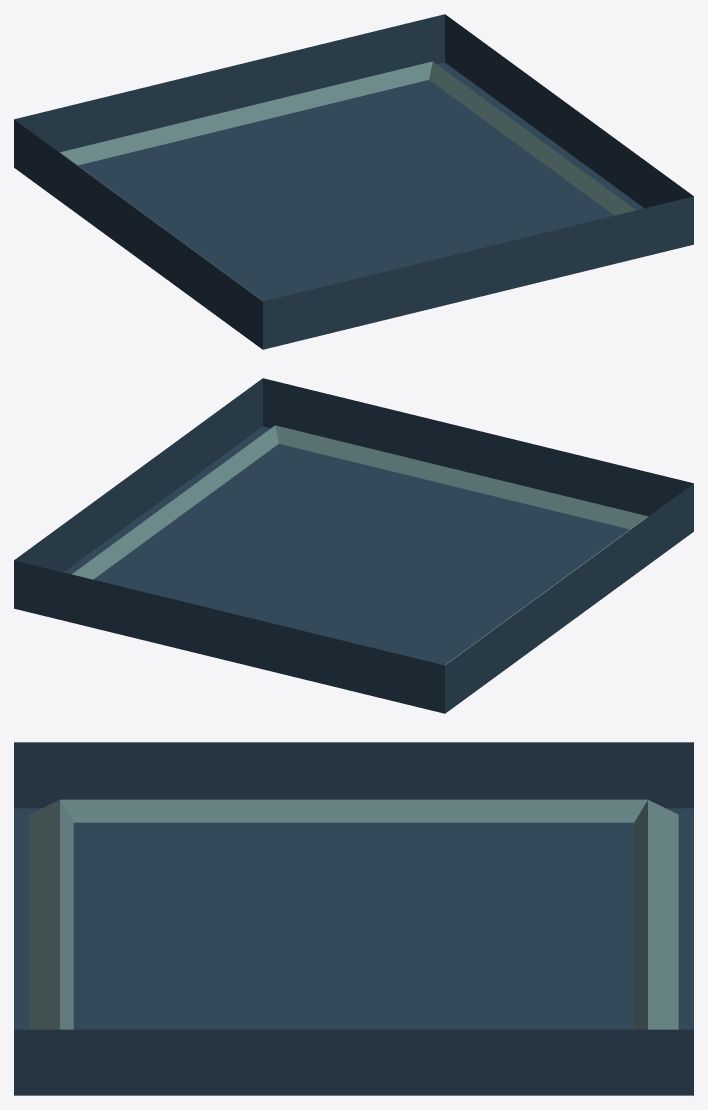
Rendered from db_ceiling.glb.
3 views of the same model, one above another, from view 1: azimuth 30°, elevation 25°; view 2: azimuth 150°, elevation 25°; view 3: azimuth 270°, elevation 25° (orthographic). The views are drawn at different scales.
Parts seen in each view (by area): view 1: Ceiling; view 2: Ceiling; view 3: Ceiling.
Boxes of the visible parts, x1=… form: Ceiling: x1=14, y1=14, x2=693, y2=349; Ceiling: x1=14, y1=378, x2=693, y2=713; Ceiling: x1=14, y1=742, x2=693, y2=1095.
Size of the model in its own units: 5 by 0.5353 by 5.
Materials: 1 (1 with a texture image).
